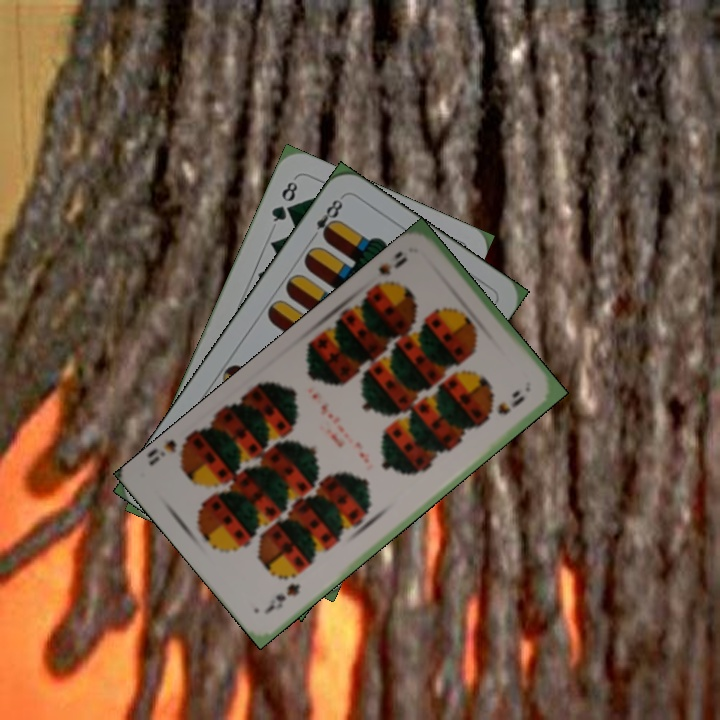E8: (306, 195, 346, 244)
G8: (267, 177, 300, 225)
S9: (369, 247, 410, 290), (261, 579, 303, 616)
